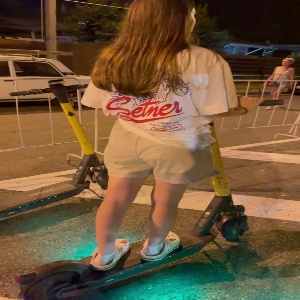human on a scooter: (10, 1, 285, 300)
